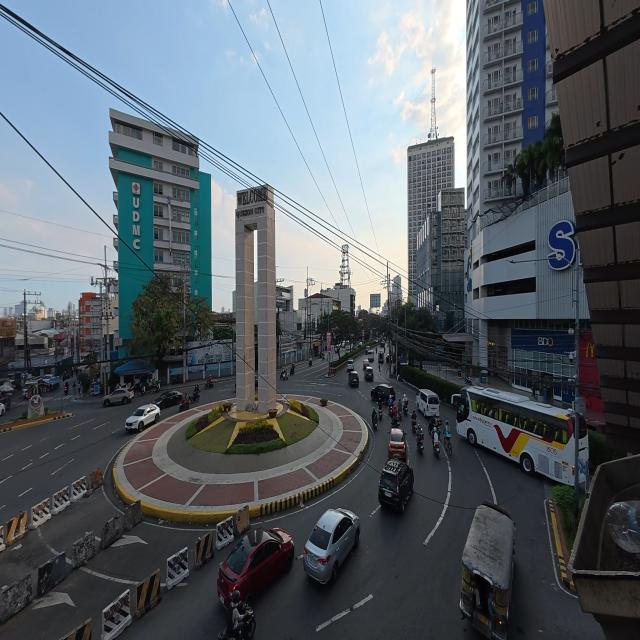Jeepneys: (460, 502, 514, 639), (379, 352, 384, 364)
bus: (452, 387, 578, 484)
car: (217, 527, 294, 608), (304, 509, 359, 582), (379, 459, 413, 512), (125, 404, 160, 431), (389, 428, 407, 460), (103, 388, 134, 406), (154, 390, 183, 409), (371, 384, 395, 403), (23, 380, 41, 397), (349, 371, 359, 387), (346, 358, 354, 372), (365, 367, 373, 380), (42, 375, 54, 383), (363, 359, 369, 370), (0, 403, 5, 415), (358, 341, 363, 346)
motorcycle: (243, 608, 255, 639), (417, 428, 424, 454), (179, 395, 189, 411), (0, 397, 11, 409), (170, 375, 183, 385), (150, 380, 160, 392), (433, 441, 440, 457), (280, 369, 289, 380), (191, 391, 199, 403), (372, 413, 377, 429), (205, 380, 214, 388), (403, 401, 408, 415), (465, 375, 472, 385), (412, 415, 416, 432), (392, 416, 398, 427), (141, 385, 146, 396), (398, 408, 402, 421), (379, 406, 382, 421), (389, 406, 393, 417), (290, 365, 294, 375), (64, 385, 68, 395), (309, 358, 312, 366)
vans: (416, 389, 439, 417), (367, 350, 374, 362)
